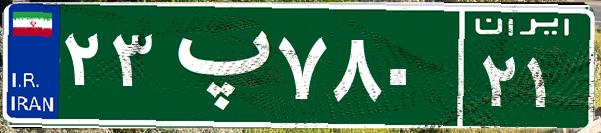0: (385, 28, 445, 110)
1: (525, 38, 570, 115)
2: (57, 26, 110, 107), (475, 38, 525, 113)
3: (110, 28, 158, 105)
7: (273, 28, 330, 110)
8: (330, 28, 385, 110)
پ: (158, 15, 273, 115)
